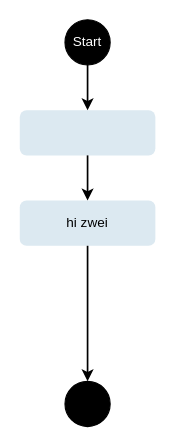
The diagram is 174 pixels wide and 446 high, and some of its shapes have lost their labels. The shapes that lost their labels are listed below. From the top down, each one's box as (x1, y1, x2, y2) in pixels, then its label:
(19, 110, 155, 155): hallo
(64, 380, 110, 427): Stop
